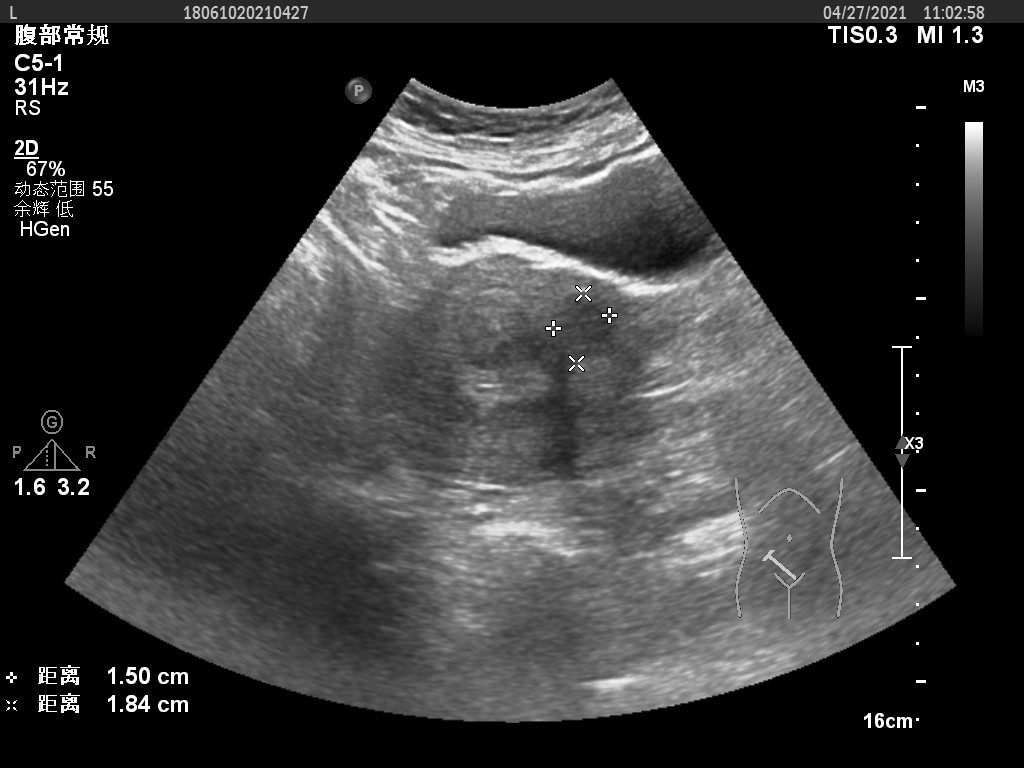肌瘤: (552, 296, 607, 363)
